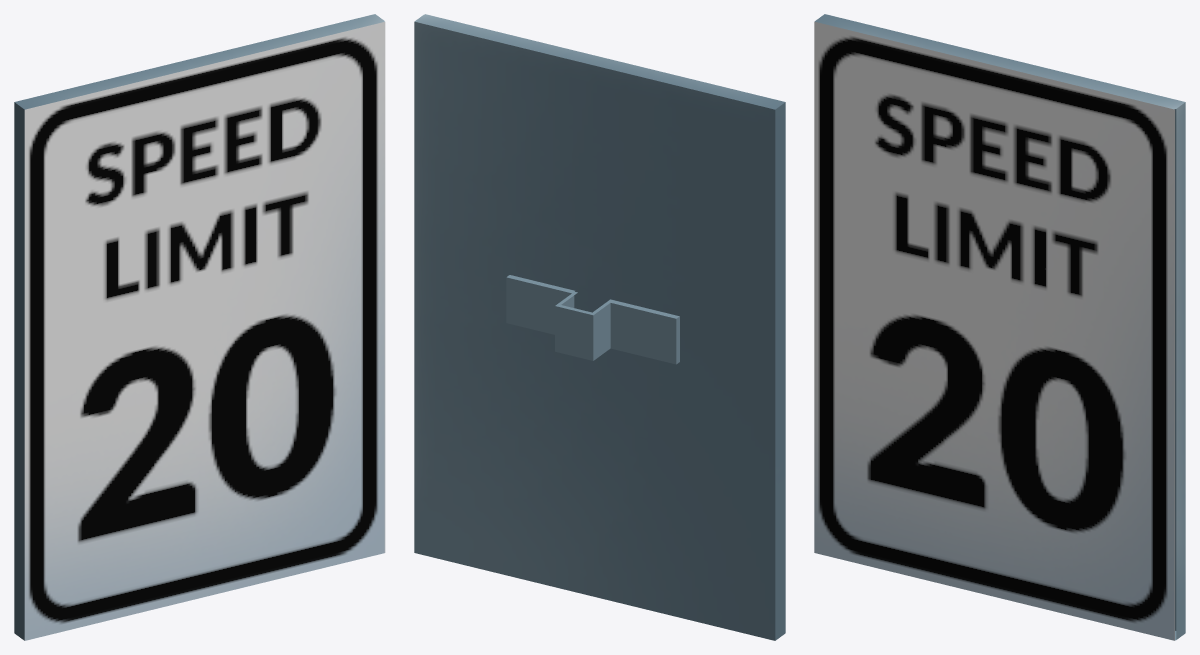
Rendered from Sign34.fbx.
3 renders of one model, left to right at view 1: azimuth 30°, elevation 25°; view 2: azimuth 150°, elevation 25°; view 3: azimuth 330°, elevation 25°, orthographic.
Visible parts, largest first — view 1: Sign34; view 2: Sign34; view 3: Sign34.
Boxes of the visible parts, x1,y1,x2,y2 form: Sign34: [14, 14, 385, 640]; Sign34: [414, 14, 785, 640]; Sign34: [814, 14, 1185, 640].
Bounding box in the file's own units: 1 × 0.1489 × 1.41.
